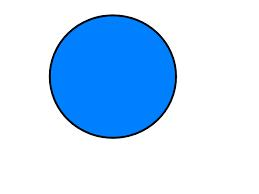blue_circle: (43, 7, 184, 145)
